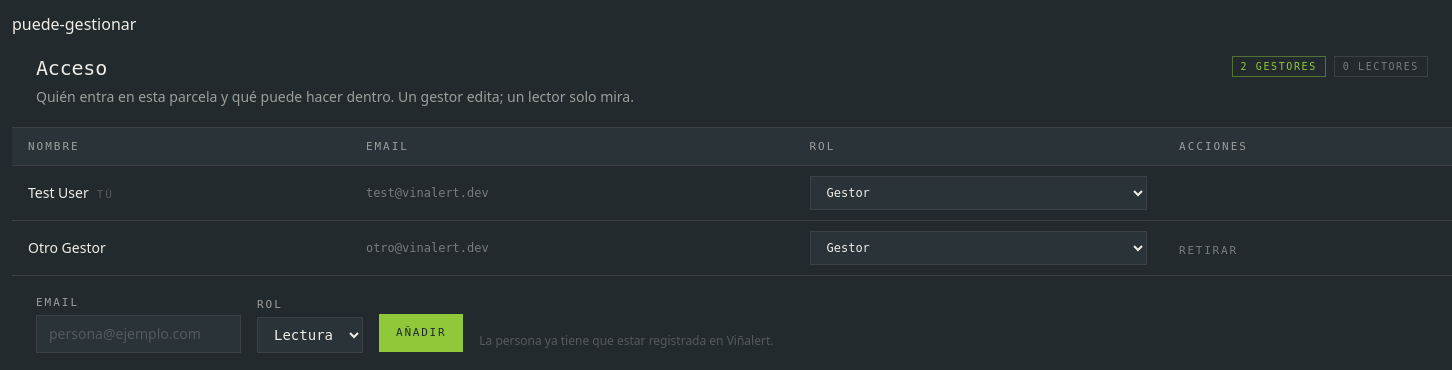
Test: un gestor que se cambia su propio rol actualiza el permiso compartido
Expected: the text "test@vinalert.dev" is shown, [350, 166, 794, 221]
Expected: the text with test id "sonda-permiso" reads "puede-gestionar", [12, 13, 136, 35]
Select "Lectura" in the dropdown named "Rol de Test User" at (978, 193), box [810, 176, 1147, 210]
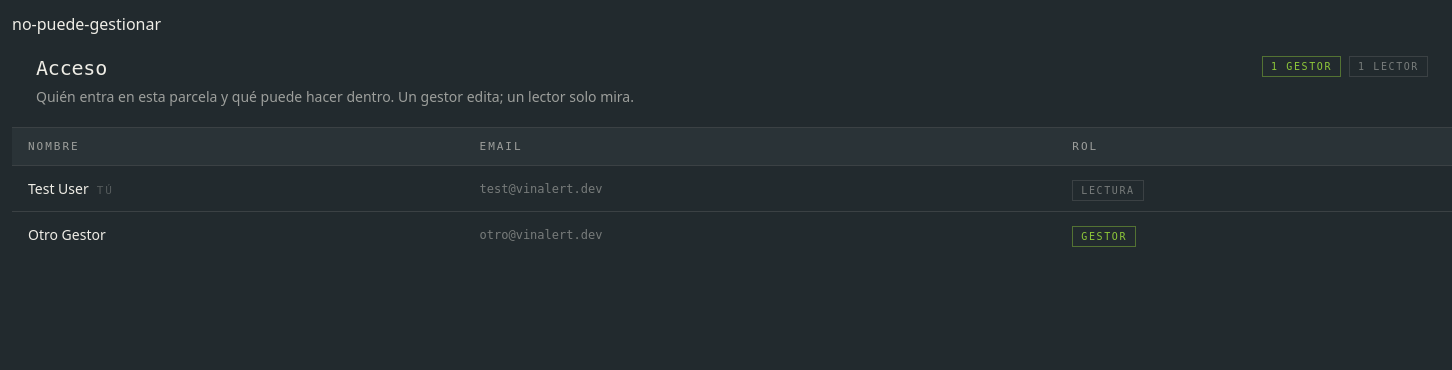
Result: the text with test id "sonda-permiso" reads "no-puede-gestionar" at [12, 13, 161, 35]
